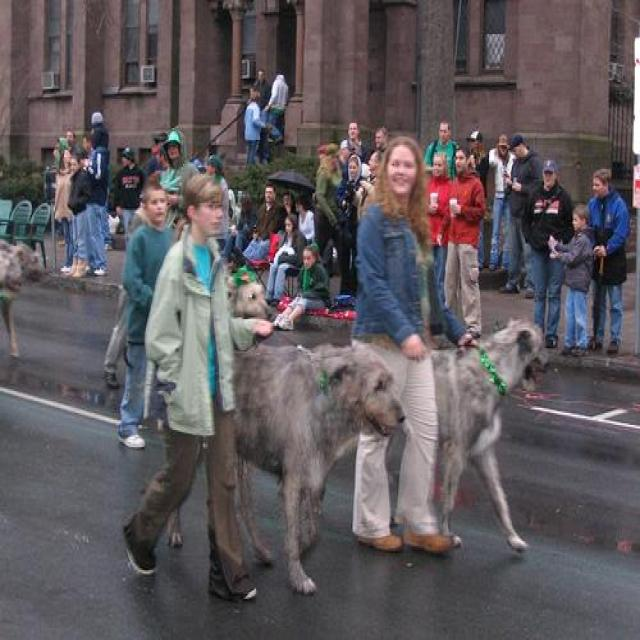irish_wolfhound: (237, 336, 407, 592), (428, 314, 552, 555), (1, 246, 41, 356)
